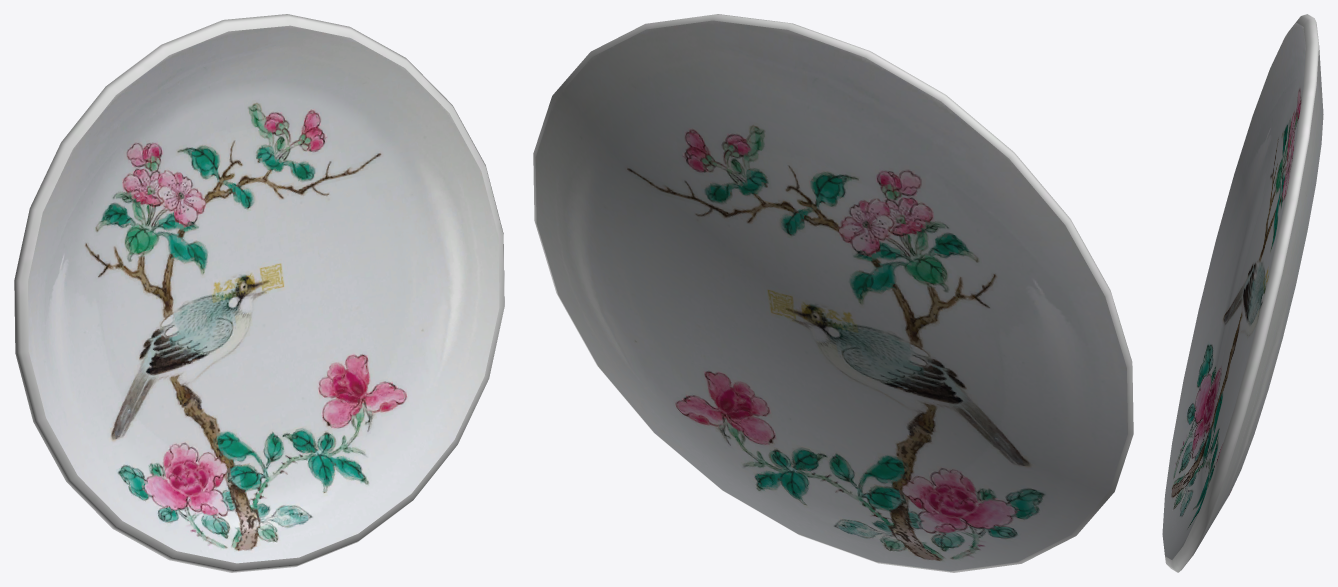
The model's file is Plate1.b.fbx.
3 views of the same model, side by side, from view 1: azimuth 30°, elevation 25°; view 2: azimuth 150°, elevation 25°; view 3: azimuth 270°, elevation 25° (orthographic). The views are drawn at different scales.
Visible parts, largest first — view 1: Group 0; view 2: Group 0; view 3: Group 0.
Part boxes in pixels (x1,y1,x2,y2): Group 0: [14, 14, 504, 572]; Group 0: [533, 14, 1133, 572]; Group 0: [1162, 14, 1323, 572].
Size of the model in its own units: 26.86 by 25.94 by 7.5.
1 material, 1 textured.
